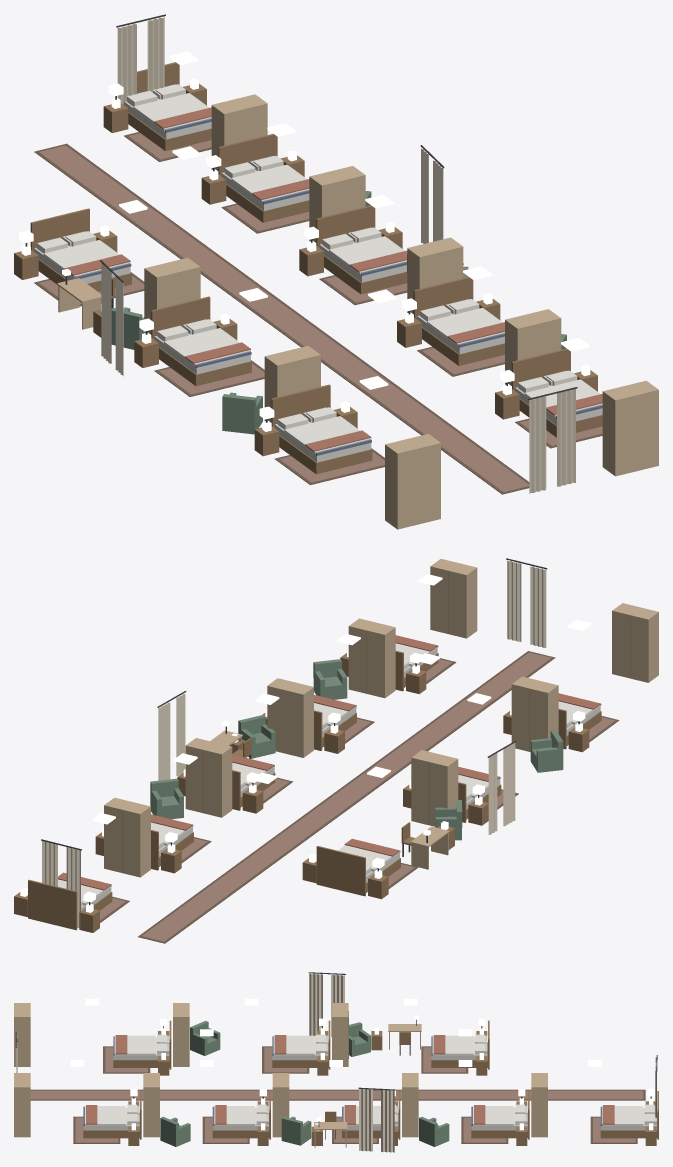
Rendered from fine-s1.glb.
The picture shows the model from 3 angles, top to bottom: view 1: azimuth 30°, elevation 25°; view 2: azimuth 150°, elevation 25°; view 3: azimuth 270°, elevation 25°; orthographic projection. The views are drawn at different scales.
Parts seen in each view (by area): view 1: soft-s1, dresser.007, dresser.002, bed-frame.002, bed-frame.001, bed-frame.004, bed-frame.006, bed-frame.005, bed-frame.000, dresser.001, dresser.003, dresser.004 (+11 smaller); view 2: soft-s1, dresser.002, dresser.007, dresser.004, dresser.006, dresser.003, dresser.005, dresser.000, dresser.001, bed-frame.000, bed-frame.003, lounge-chair.004 (+10 smaller); view 3: soft-s1, dresser.003, dresser.004, dresser.006, dresser.007, dresser.001, dresser.002, dresser.000, dresser.005, bed-frame.001, bed-frame.002, bed-frame.006 (+12 smaller).
Boxes of the visible parts, x1,y1,x2,y2 form: soft-s1: (19,14,602,494); dresser.007: (602,380,658,476); dresser.002: (385,434,440,529); bed-frame.002: (271,384,372,474); bed-frame.001: (151,296,251,386); bed-frame.004: (218,133,309,222); bed-frame.006: (413,277,504,365); bed-frame.005: (316,205,407,294); bed-frame.000: (30,208,131,291); dresser.001: (264,346,320,422); dresser.003: (211,94,267,170); dresser.004: (309,166,365,242); soft-s1: (41,558,619,943); dresser.002: (612,603,658,682); dresser.007: (430,559,477,638); dresser.004: (185,738,232,817); dresser.006: (348,618,395,698); dresser.003: (104,797,150,877); dresser.005: (267,678,313,757); dresser.000: (411,750,458,826); dresser.001: (511,676,558,751); bed-frame.000: (316,846,400,896); bed-frame.003: (28,879,112,930); lounge-chair.004: (313,659,347,699); soft-s1: (15,972,657,1152); dresser.003: (531,1073,547,1137); dresser.004: (402,1073,418,1137); dresser.006: (143,1073,159,1137); dresser.007: (14,1073,30,1137); dresser.001: (173,1003,189,1066); dresser.002: (14,1003,30,1066); dresser.000: (332,1003,348,1066); dresser.005: (272,1073,289,1137); bed-frame.001: (272,1020,330,1069); bed-frame.002: (113,1020,171,1069); bed-frame.006: (212,1091,270,1139).
Bounding box in the file's own units: 10.04 × 2.56 × 23.26.
